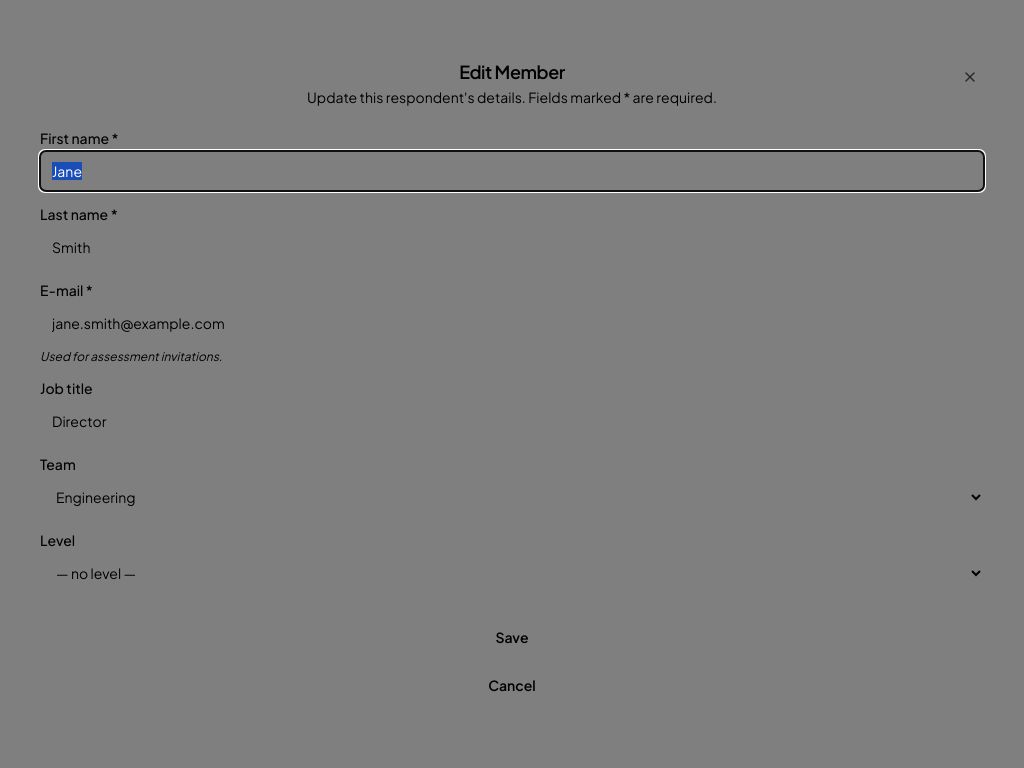
Test: EditMemberModal › responsive in-flight state locks only submit and leaves inputs and cancel available
The image size is (1024, 768).
Click the button "Save": (512, 637) [40,617,984,657]
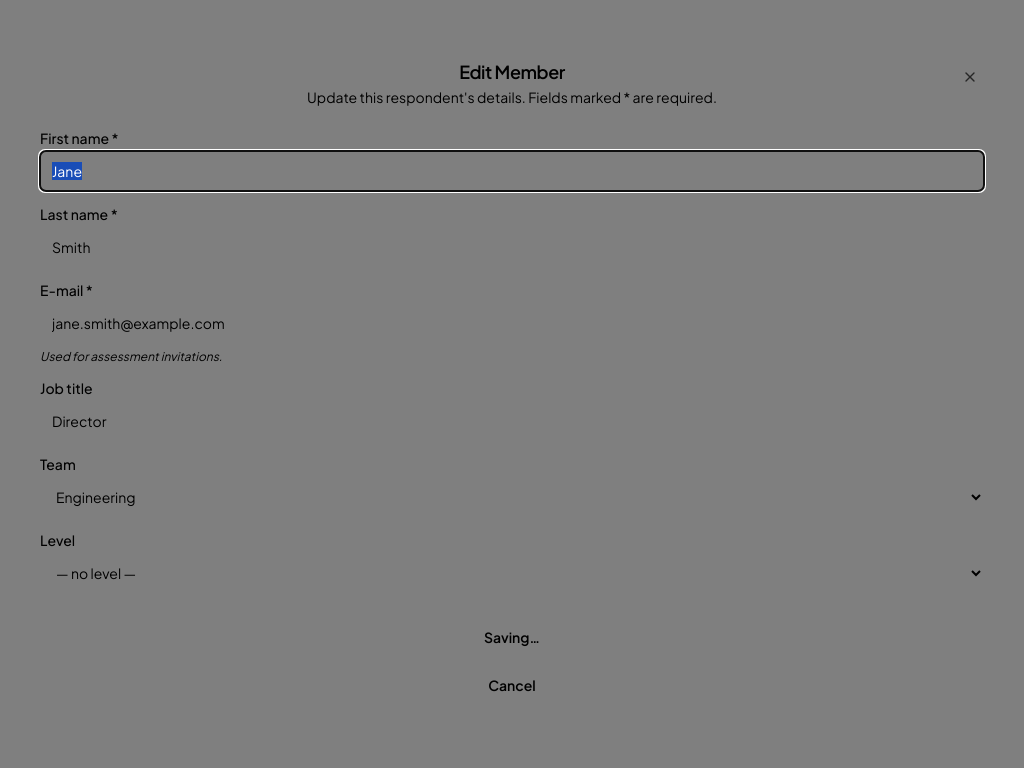
Check: the field labelled "First name *" is enabled, box [40,151,984,191]
Check: the button "Saving…" is disabled, box [40,617,984,657]
